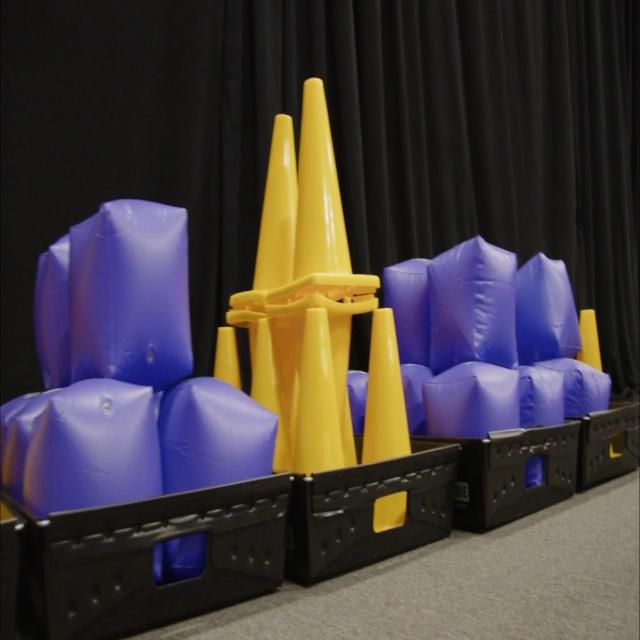frc_cone: (264, 76, 382, 319), (227, 113, 299, 326), (292, 308, 349, 474), (361, 308, 415, 470), (252, 318, 296, 474), (576, 308, 604, 372), (216, 322, 242, 389)
frc_cube: (69, 197, 192, 386), (29, 383, 163, 501), (427, 235, 518, 367), (158, 378, 276, 478), (421, 360, 520, 438), (518, 249, 581, 359), (35, 228, 71, 386), (0, 393, 56, 490), (384, 256, 428, 365), (540, 356, 610, 415), (519, 364, 565, 434), (398, 364, 432, 429), (346, 374, 371, 434), (0, 396, 23, 444)
